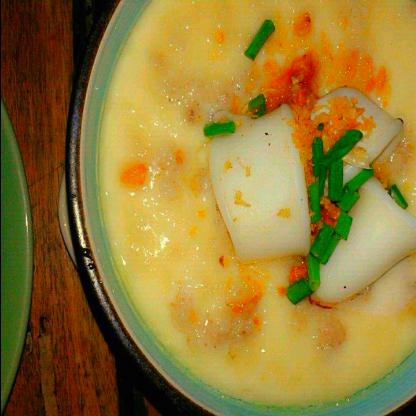Kaithoon: (95, 0, 415, 400)
